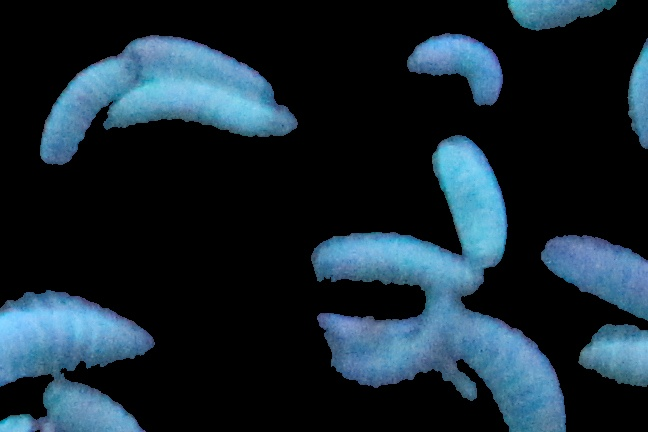larvae: (1, 291, 165, 399), (309, 217, 484, 297), (100, 82, 304, 148), (455, 312, 566, 432), (117, 31, 280, 103), (37, 56, 139, 168), (429, 138, 511, 266), (541, 229, 648, 318), (405, 32, 505, 111), (329, 350, 441, 403), (43, 378, 148, 432), (313, 307, 417, 346)
